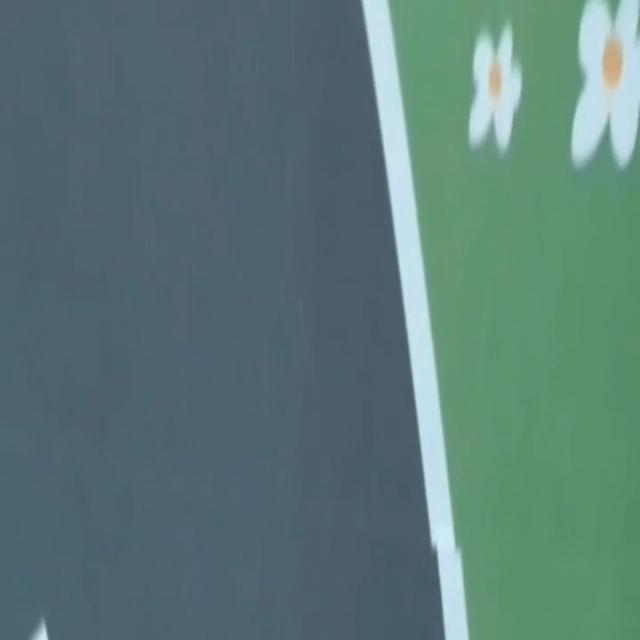center: (29, 618, 48, 639)
right: (361, 0, 468, 639)
